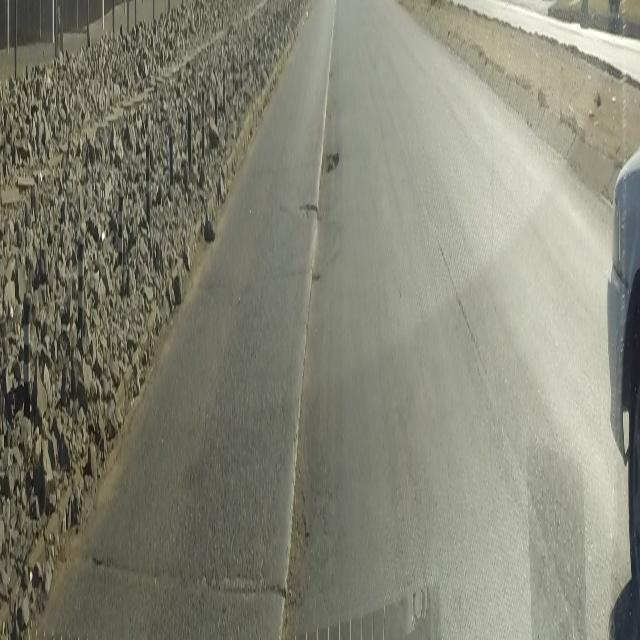pothole: (320, 144, 342, 179)
